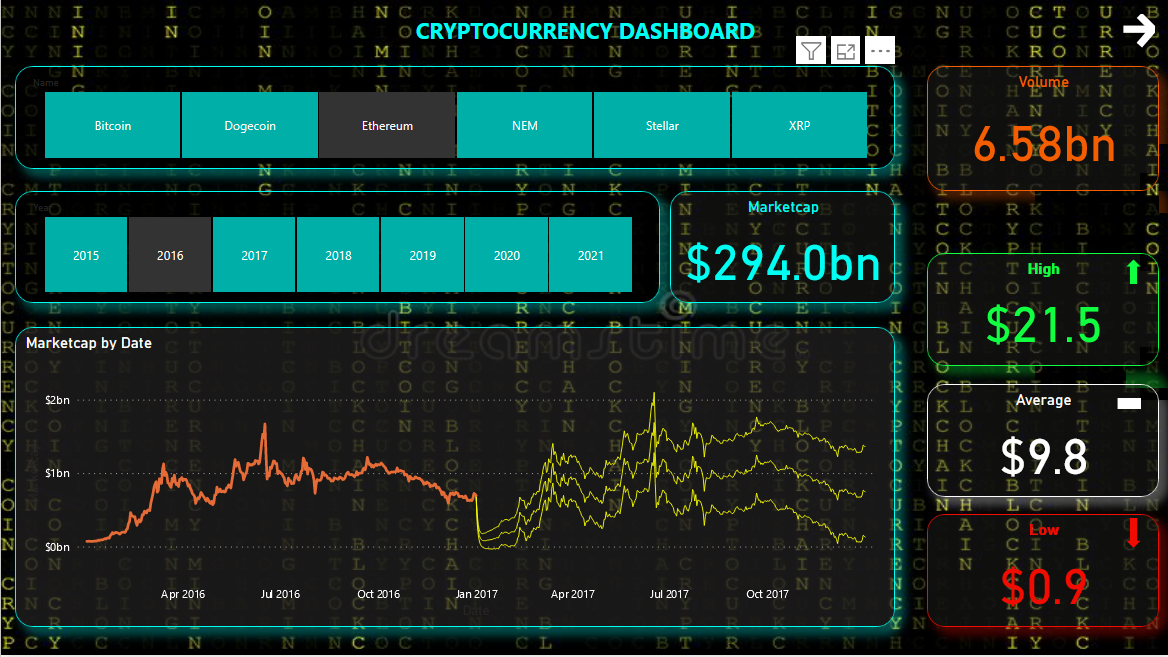

The dashboard page shown, as its layout file describes it:
{"tool":"powerbi","page":{"name":"Page 1","canvas":[1280,720],"ordinal":0},"visuals":[{"type":"slicer","fields":{"Values":["CryptoData.Year"]},"box":[15.1,211.5,707.3,123.6],"z":0},{"type":"slicer","fields":{"Values":["CryptoData.Name"]},"box":[15.1,74.2,965.5,114],"z":1000},{"type":"lineChart","fields":{"Category":["CryptoData.Date"],"Y":["Sum(CryptoData.Marketcap)"]},"box":[15.1,359.8,965.5,329.6],"z":1001},{"type":"actionButton","box":[1223.7,12.4,45.3,46.7],"z":1002},{"type":"card","title":"Marketcap","fields":{"Values":["Sum(CryptoData.Marketcap)"]},"box":[733.4,211.5,247.2,123.6],"z":1003},{"type":"card","title":"High","fields":{"Values":["Max(CryptoData.High)"]},"box":[1014.9,280.2,254.1,123.6],"z":1004},{"type":"card","title":"Volume","fields":{"Values":["Sum(CryptoData.Volume)"]},"box":[1014.9,74.2,254.1,137.3],"z":1005},{"type":"card","title":"Low","fields":{"Values":["Min(CryptoData.Low)"]},"box":[1014.9,565.8,254.1,123.6],"z":1006},{"type":"card","title":"Average","fields":{"Values":["Avg(CryptoData.Average)"]},"box":[1014.9,423,254.1,123.6],"z":1007},{"type":"textbox","box":[425.8,13.7,428.5,45.3],"z":1008},{"type":"shape","box":[1233.3,287,16.5,27.5],"z":1009},{"type":"shape","box":[1223.7,438.1,26.1,12.4],"z":1010},{"type":"shape","box":[1233.3,570,16.5,33],"z":1011}]}

Visuals, with their boxes in screenshot pixels (x1, y1, x2, y2), scaled from the page's 1280x720 canvas onto the 1168x657 screenshot:
slicer - CryptoData.Year: locate(14, 193, 659, 306)
slicer - CryptoData.Name: locate(14, 68, 895, 172)
lineChart - CryptoData.Date x Sum(CryptoData.Marketcap): locate(14, 328, 895, 629)
actionButton: locate(1117, 11, 1158, 54)
"Marketcap" card: locate(669, 193, 895, 306)
"High" card: locate(926, 256, 1158, 368)
"Volume" card: locate(926, 68, 1158, 193)
"Low" card: locate(926, 516, 1158, 629)
"Average" card: locate(926, 386, 1158, 499)
textbox: locate(389, 13, 780, 54)
shape: locate(1125, 262, 1140, 287)
shape: locate(1117, 400, 1140, 411)
shape: locate(1125, 520, 1140, 550)
